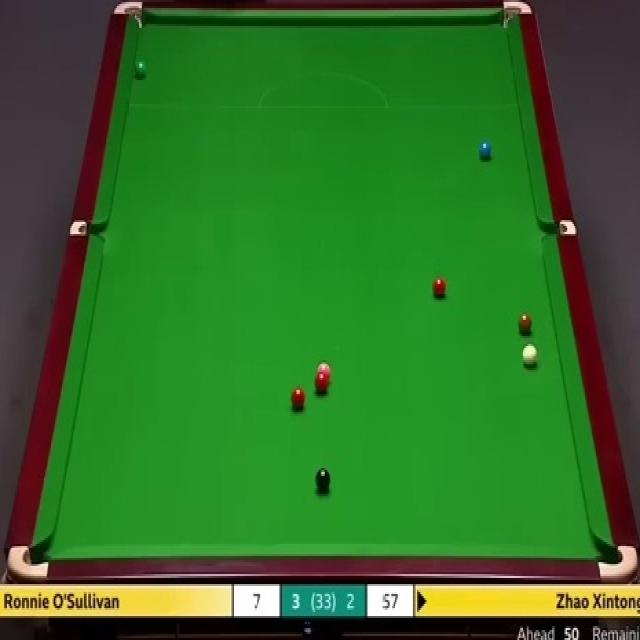pocket: (5, 545, 51, 583), (594, 542, 637, 580), (500, 0, 532, 32), (112, 0, 147, 29), (539, 220, 576, 237), (68, 220, 104, 237)
